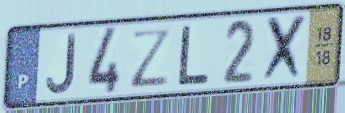2: (222, 18, 257, 86)
4: (85, 25, 123, 98)
J: (45, 32, 78, 96)
L: (175, 23, 212, 88)
X: (259, 11, 310, 85)
Z: (130, 26, 175, 90)
